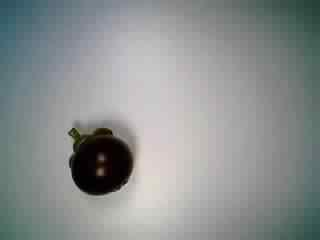mangosteen: (57, 119, 139, 198)
